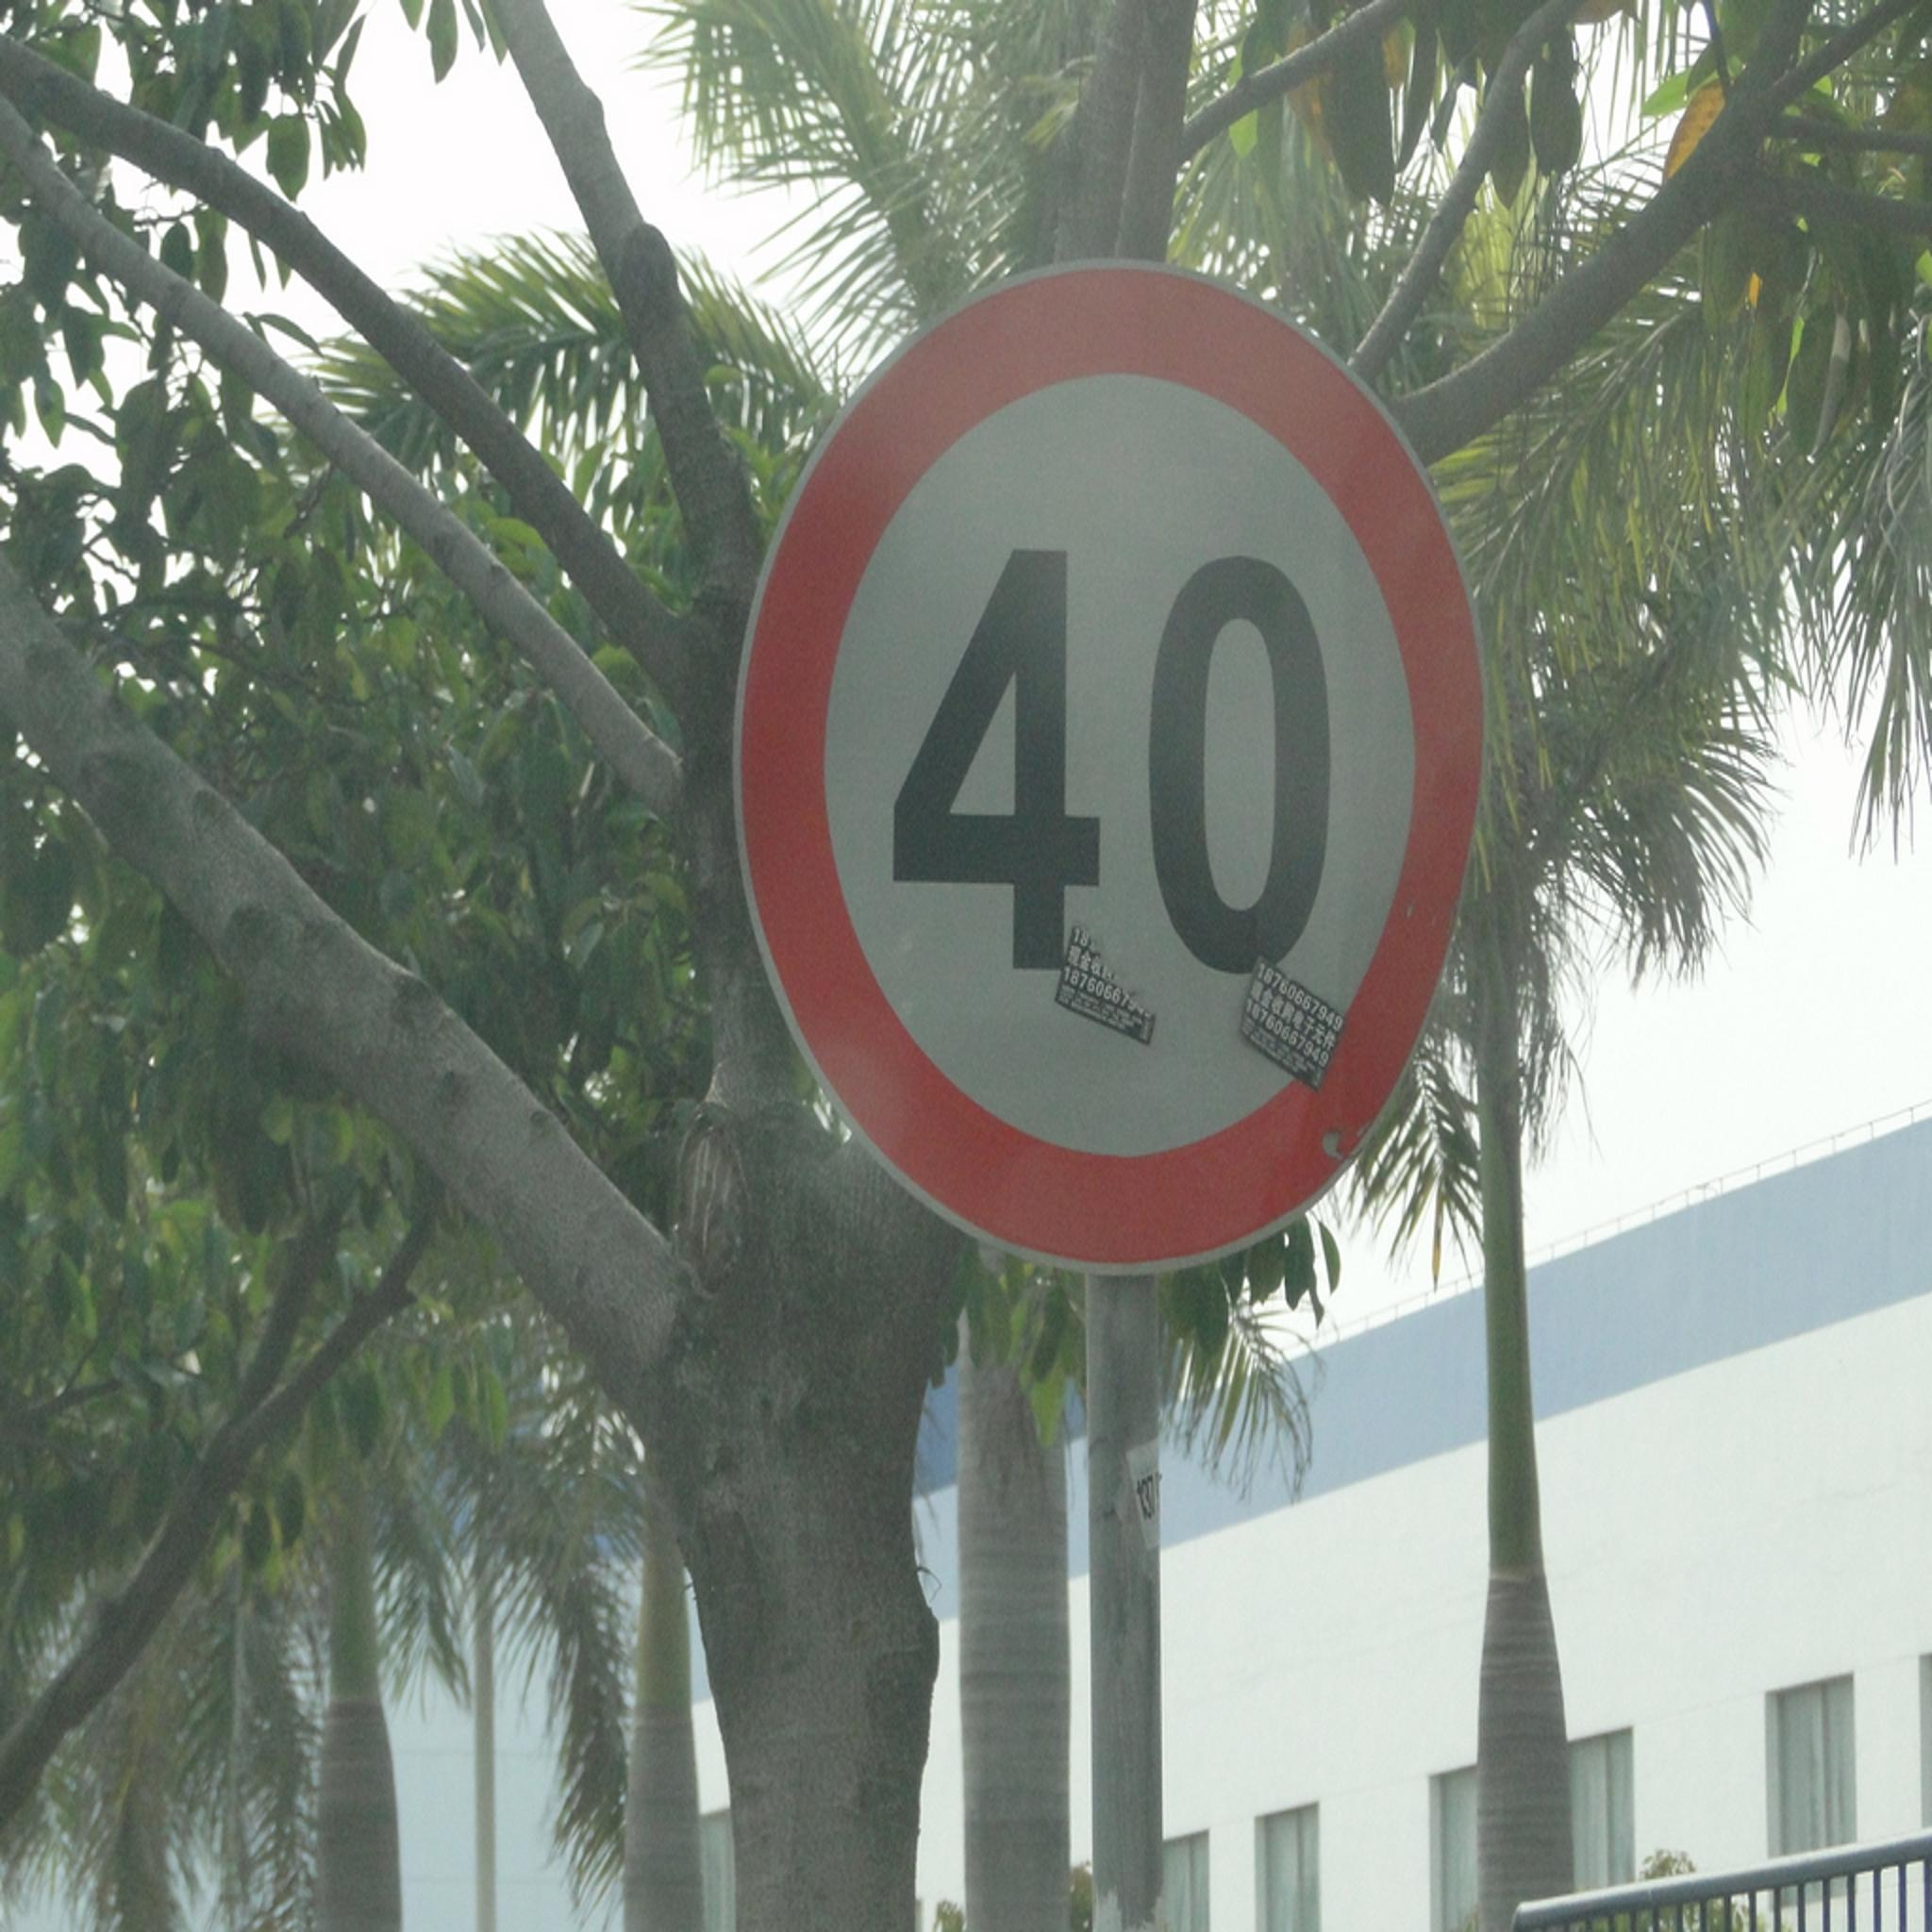pl40: (741, 264, 1486, 1274)
